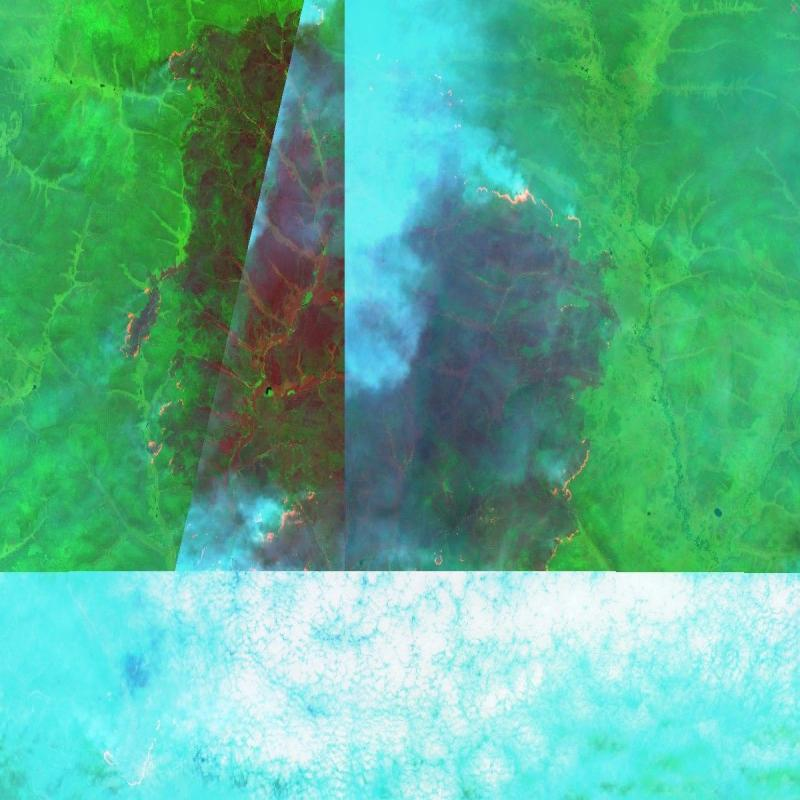fire: (455, 171, 607, 267), (519, 418, 601, 592), (117, 267, 185, 473), (229, 478, 327, 606), (154, 28, 217, 126)
